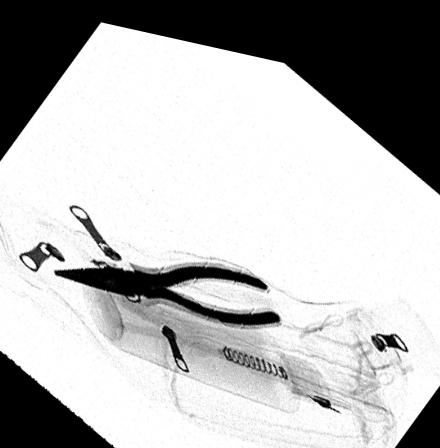Pliers: (52, 254, 286, 315)
